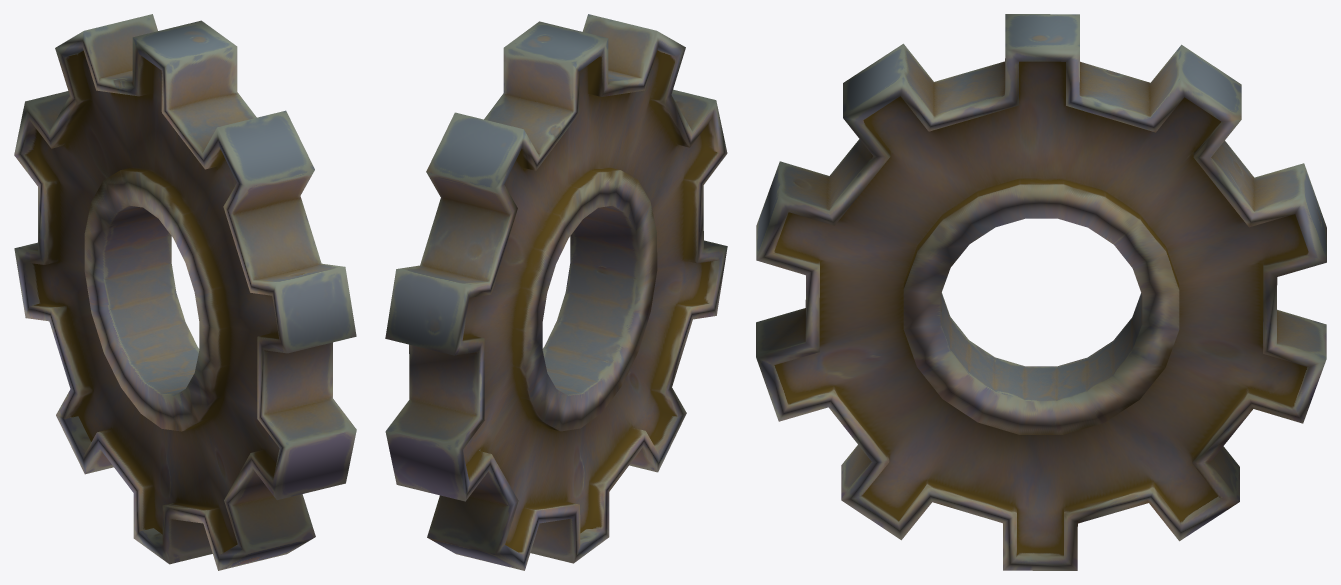
The model's file is CogLP2.fbx.
3 renders of one model, left to right at view 1: azimuth 30°, elevation 25°; view 2: azimuth 150°, elevation 25°; view 3: azimuth 270°, elevation 25°, orthographic. The views are drawn at different scales.
Visible parts, largest first — view 1: CogLP; view 2: CogLP; view 3: CogLP.
Part boxes in pixels (x1=…): CogLP: x1=14, y1=14, x2=356, y2=570; CogLP: x1=385, y1=14, x2=727, y2=570; CogLP: x1=756, y1=14, x2=1326, y2=570.
Bounding box in the file's own units: 0.2483 × 1.72 × 1.71.
Materials: 1 (1 with a texture image).
